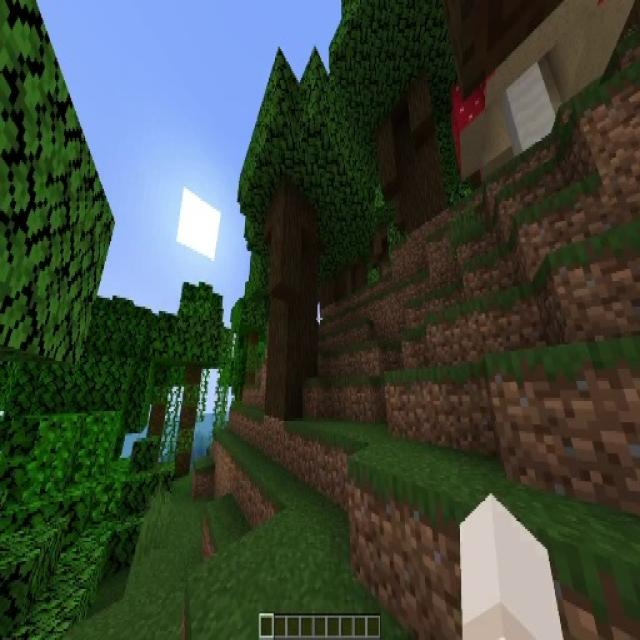dark_oak: (250, 72, 355, 417), (358, 0, 453, 218)
dark_oak_log: (268, 190, 318, 417), (380, 87, 446, 225)
jungle: (163, 282, 229, 476)
jungle_log: (175, 369, 203, 470)
